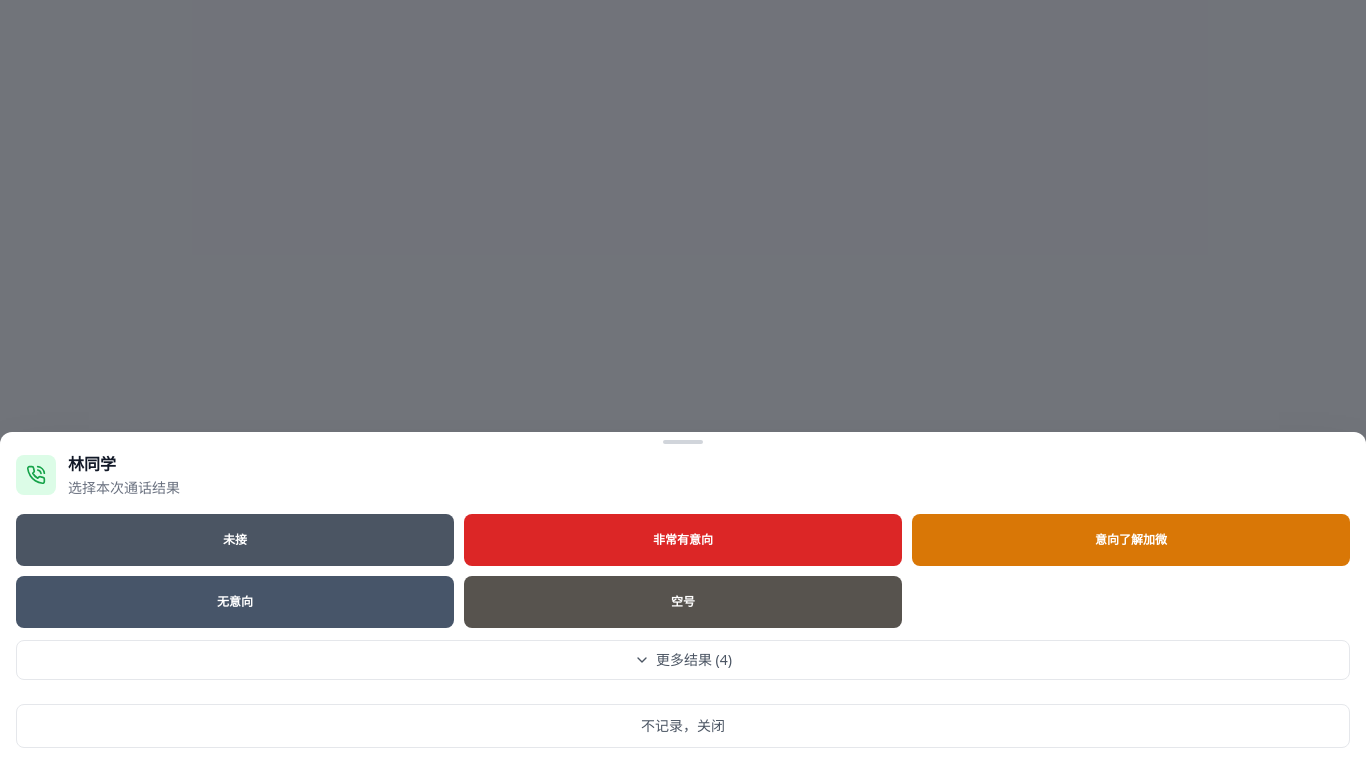
DialResultModal mobile sheet › keeps common outcomes in the first thumb-sized view and expands the rest
Expected: the dialog is shown, left=0, top=432, right=1365, bottom=767
Expected: the button "未接" is shown, left=16, top=514, right=454, bottom=566
Click the button "更多结果 (4)": (683, 660) left=16, top=640, right=1350, bottom=680
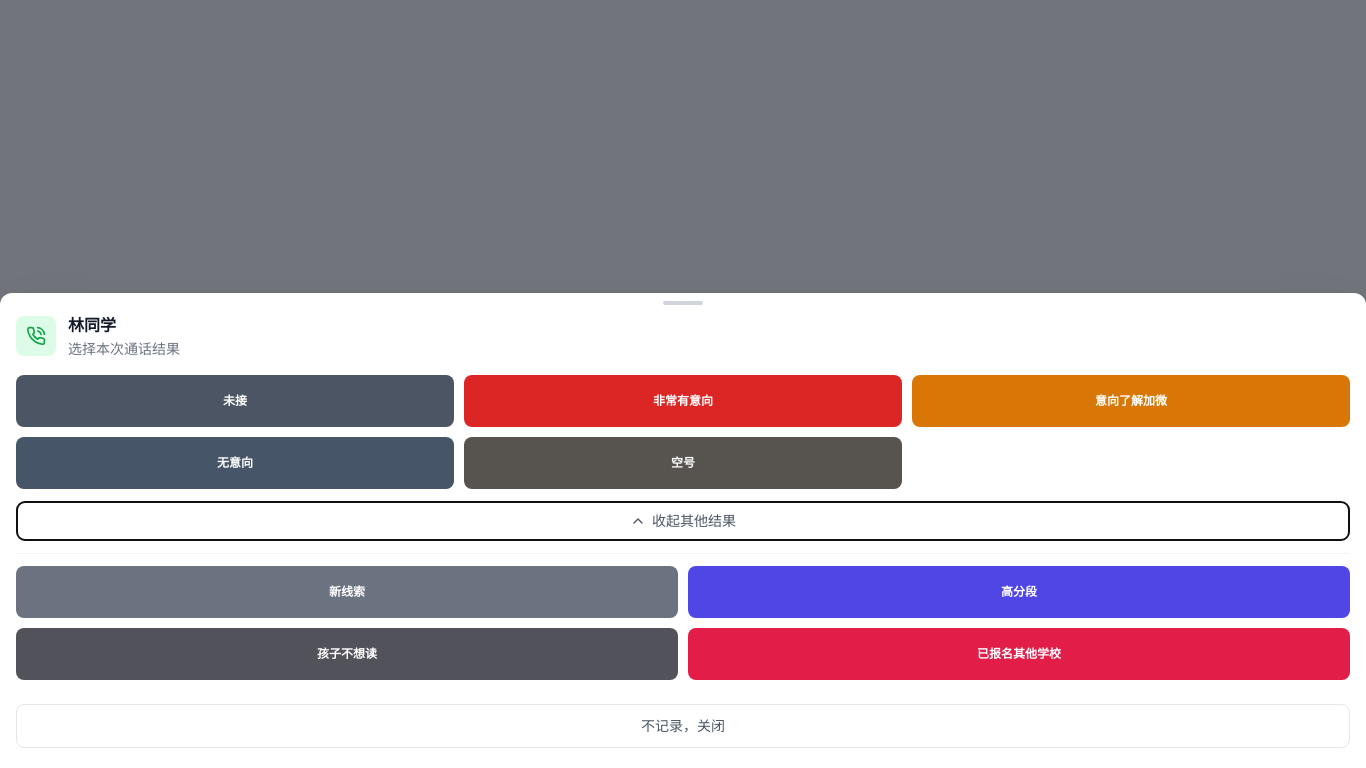
Expected: the button "高分段" is shown, left=688, top=566, right=1350, bottom=618
Expected: the button "已报名其他学校" is shown, left=688, top=628, right=1350, bottom=680
